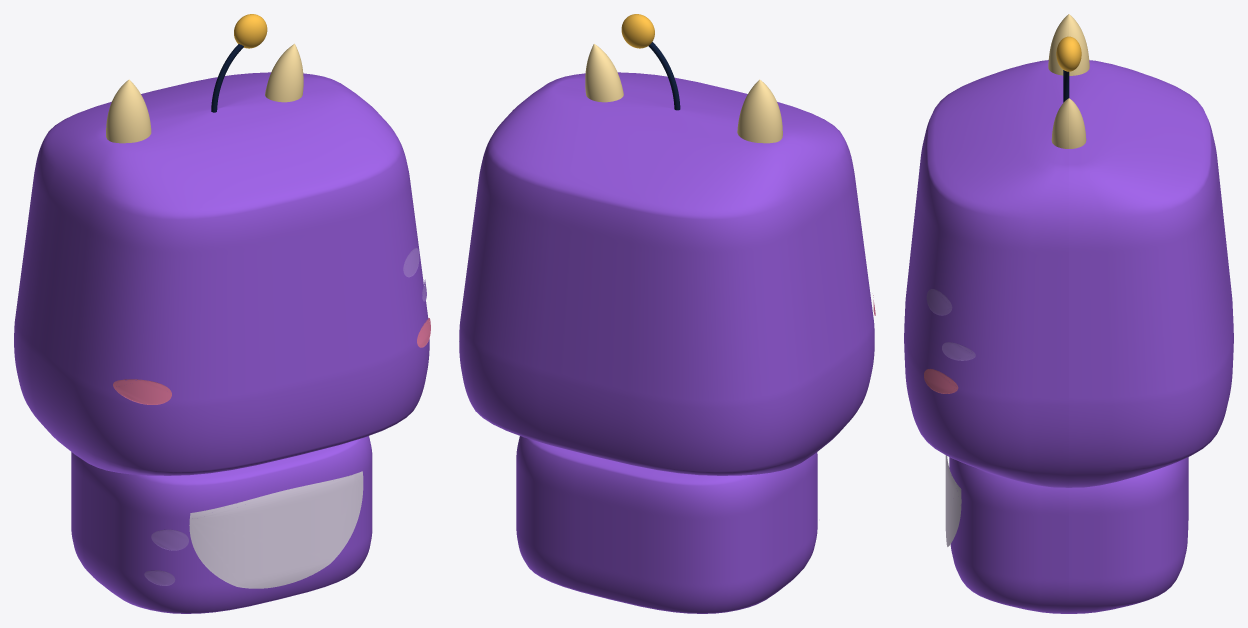
File: square.glb
3 views of the same model, side by side, from view 1: azimuth 30°, elevation 25°; view 2: azimuth 150°, elevation 25°; view 3: azimuth 270°, elevation 25° (orthographic).
Visible parts, largest first — view 1: square_19_solid, square_13_solid, square_17_mark, square_8_solid, square_9_solid, square_23_mark, square_12_solid, square_15_mark; view 2: square_19_solid, square_13_solid, square_8_solid, square_9_solid, square_12_solid; view 3: square_19_solid, square_13_solid, square_9_solid, square_8_solid, square_17_mark, square_12_solid, square_24_mark, square_21_mark, square_22_mark.
Part boxes in pixels (x1=…): square_19_solid: x1=14, y1=72, x2=429, y2=475; square_13_solid: x1=71, y1=436, x2=372, y2=613; square_17_mark: x1=189, y1=471, x2=363, y2=588; square_8_solid: x1=106, y1=79, x2=151, y2=143; square_9_solid: x1=265, y1=43, x2=303, y2=102; square_23_mark: x1=113, y1=379, x2=171, y2=404; square_12_solid: x1=234, y1=14, x2=267, y2=48; square_15_mark: x1=151, y1=529, x2=188, y2=550; square_19_solid: x1=459, y1=72, x2=874, y2=475; square_13_solid: x1=516, y1=436, x2=817, y2=613; square_8_solid: x1=737, y1=79, x2=782, y2=143; square_9_solid: x1=585, y1=44, x2=623, y2=102; square_12_solid: x1=621, y1=14, x2=654, y2=48; square_19_solid: x1=904, y1=60, x2=1233, y2=487; square_13_solid: x1=949, y1=457, x2=1188, y2=613; square_9_solid: x1=1051, y1=98, x2=1086, y2=148; square_8_solid: x1=1048, y1=14, x2=1089, y2=75; square_17_mark: x1=945, y1=455, x2=961, y2=546; square_12_solid: x1=1056, y1=36, x2=1081, y2=71; square_24_mark: x1=924, y1=369, x2=958, y2=393; square_21_mark: x1=926, y1=289, x2=952, y2=315; square_22_mark: x1=942, y1=342, x2=975, y2=360.
Bounding box in the file's own units: 0.6182 × 0.96 × 0.5254.
